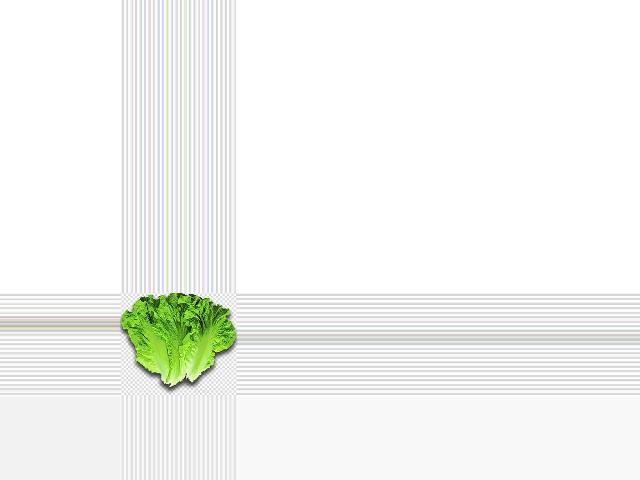lettuce: (123, 293, 238, 389)
